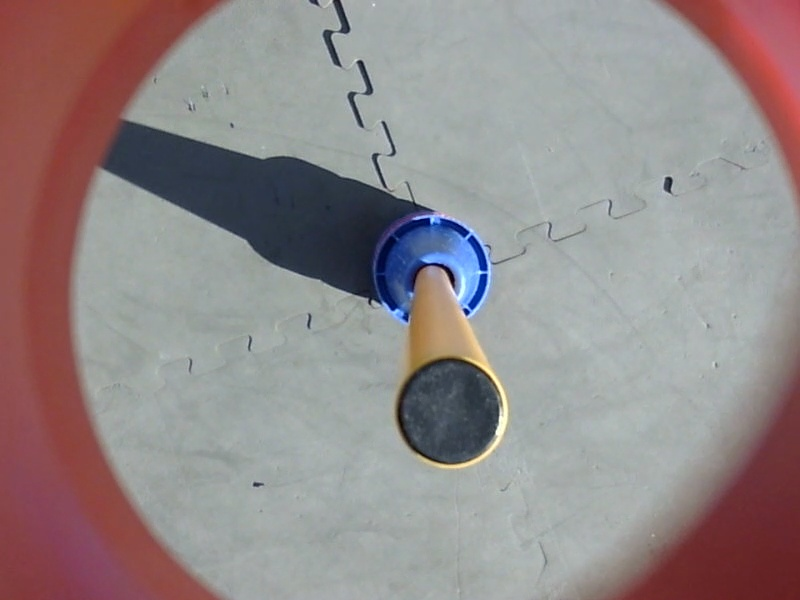tip: (391, 352, 513, 477)
